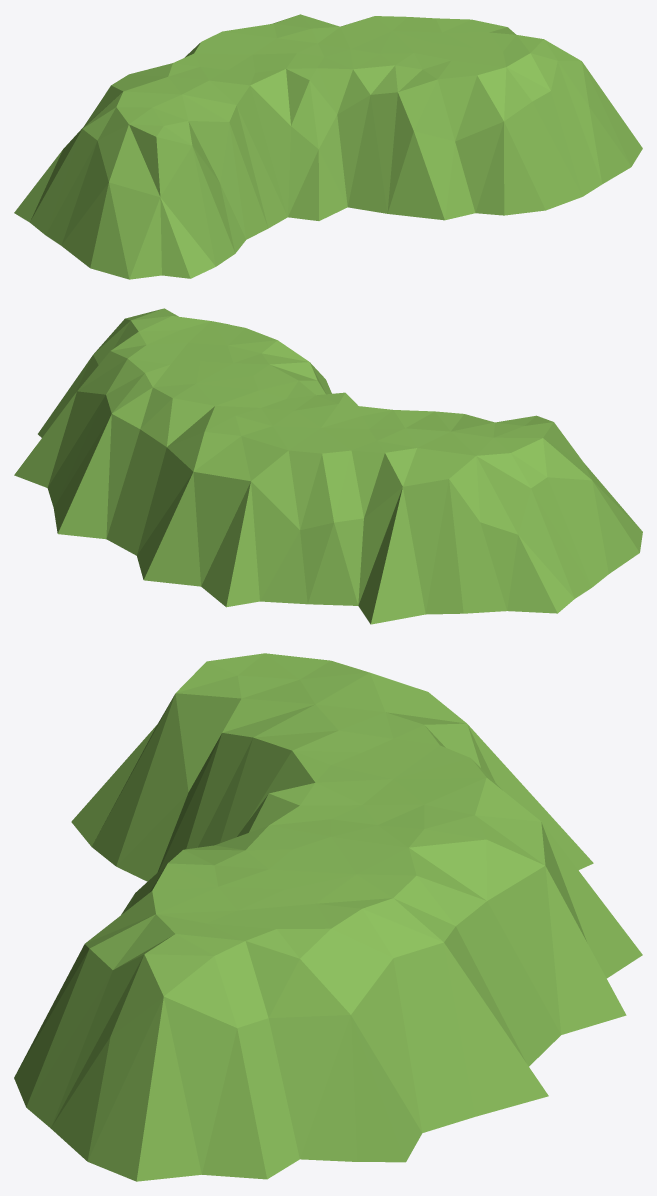
The model's file is MT_Island_M_a_05_LOD.fbx.
The picture shows the model from 3 angles, top to bottom: view 1: azimuth 30°, elevation 25°; view 2: azimuth 150°, elevation 25°; view 3: azimuth 270°, elevation 25°; orthographic projection. The views are drawn at different scales.
Visible parts, largest first — view 1: MT_Island_M_a_05_LOD0; view 2: MT_Island_M_a_05_LOD0; view 3: MT_Island_M_a_05_LOD0.
Part boxes in pixels (<box>): MT_Island_M_a_05_LOD0: <box>14,14,642,279</box>; MT_Island_M_a_05_LOD0: <box>14,308,642,624</box>; MT_Island_M_a_05_LOD0: <box>14,653,642,1181</box>.
Size of what is drawn, in the model's own units: 4841 by 959 by 3159.
